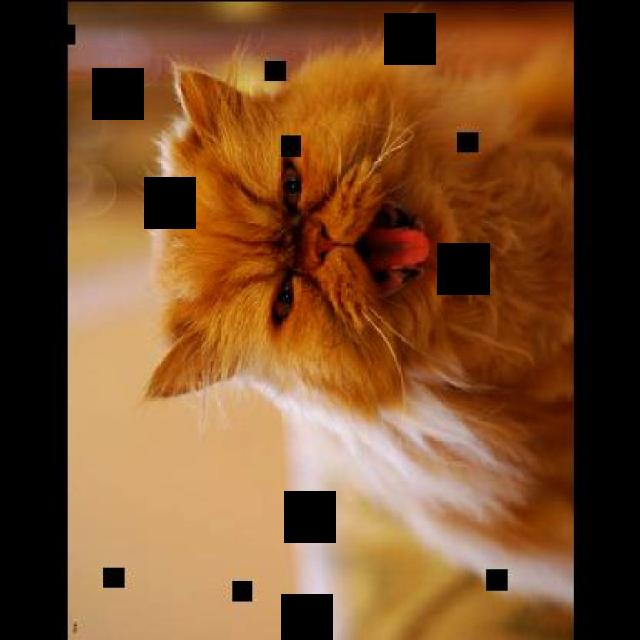unauthorized: (141, 3, 574, 625)
